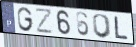6: (56, 9, 73, 36), (76, 11, 90, 38)
G: (17, 6, 35, 32)
L: (113, 15, 129, 41)
O: (92, 13, 113, 40)
Z: (35, 9, 54, 35)
